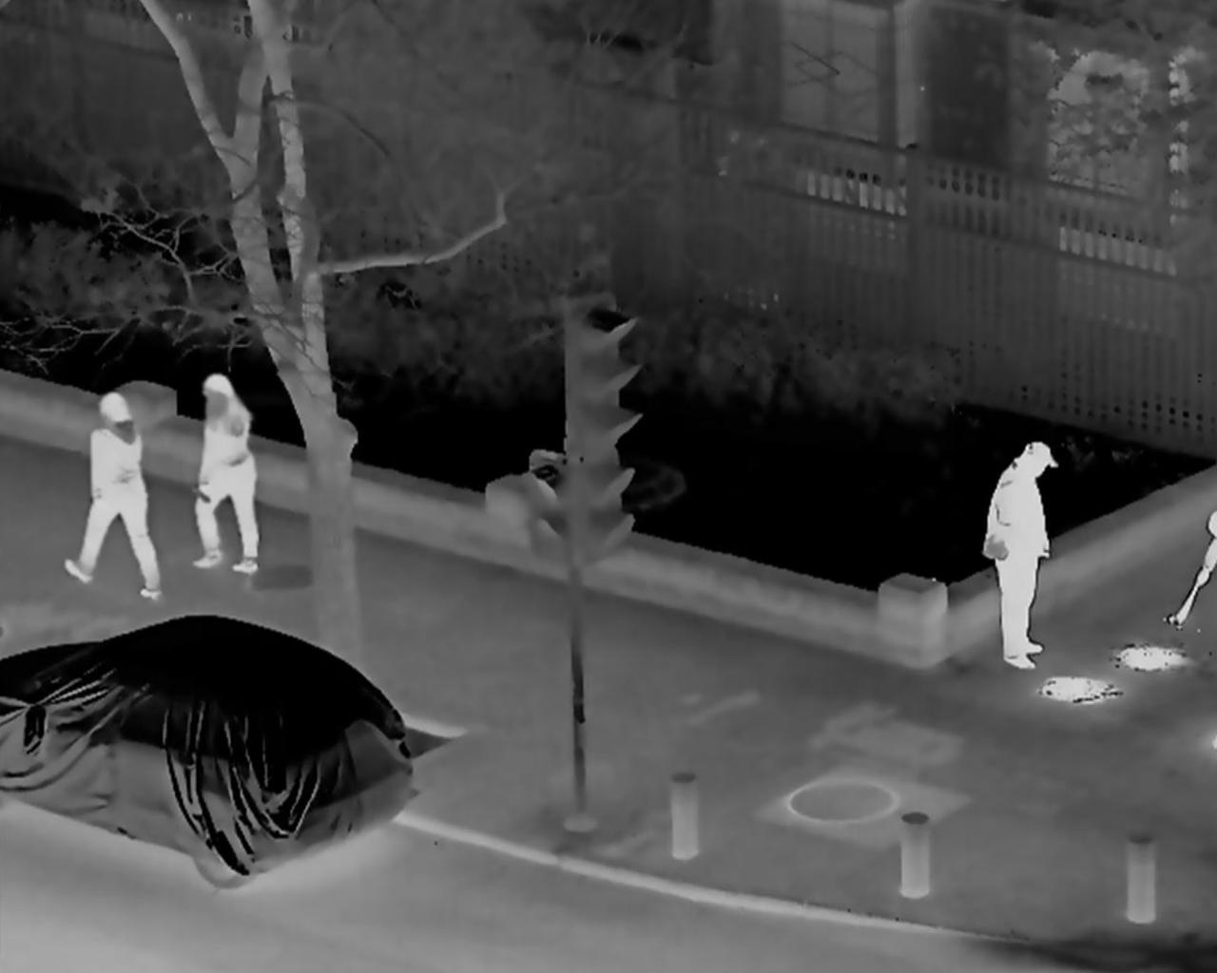person: (61, 393, 161, 598), (983, 441, 1055, 675), (195, 372, 263, 580)
